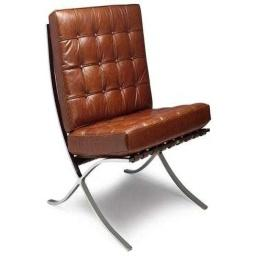Chair: (46, 3, 210, 250)
